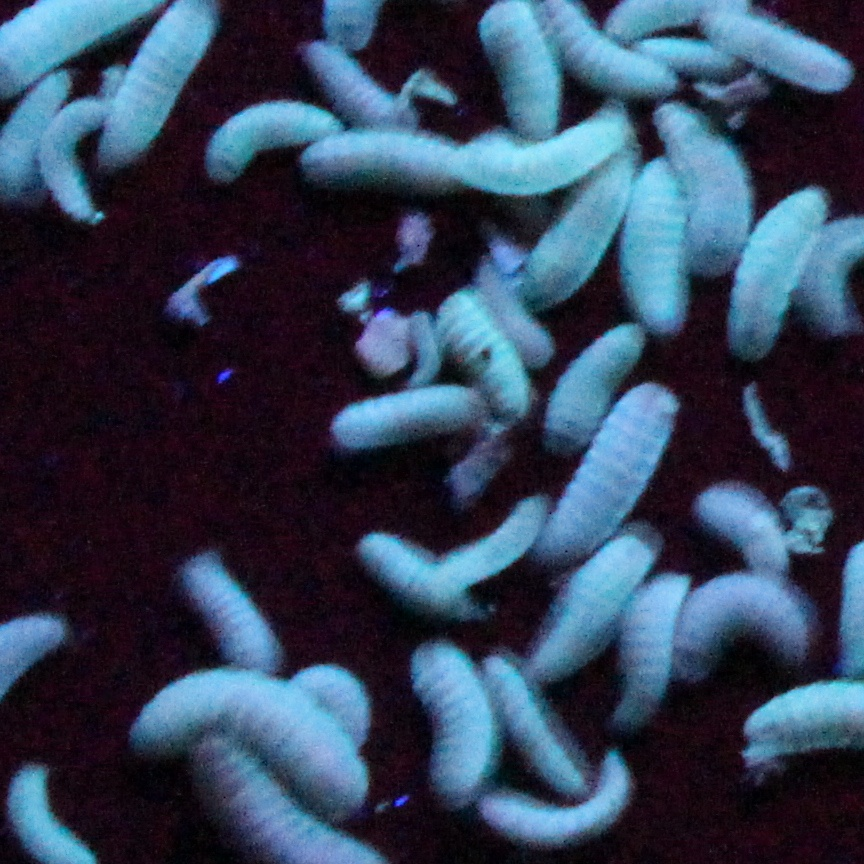larve: (133, 682, 367, 809), (548, 396, 673, 540), (532, 541, 648, 676), (728, 194, 819, 352), (406, 644, 492, 805), (661, 109, 744, 269), (703, 5, 848, 95), (622, 163, 696, 333), (675, 577, 806, 673), (527, 174, 627, 298), (542, 0, 673, 94), (180, 554, 285, 667), (497, 659, 581, 797), (438, 295, 532, 414), (476, 6, 565, 131), (482, 115, 631, 187), (546, 329, 637, 441), (303, 140, 466, 200), (213, 101, 329, 182), (616, 575, 679, 723), (490, 784, 634, 845), (44, 100, 111, 227), (366, 533, 462, 616), (309, 43, 406, 123), (449, 500, 541, 584), (702, 490, 788, 573), (329, 400, 484, 438)
